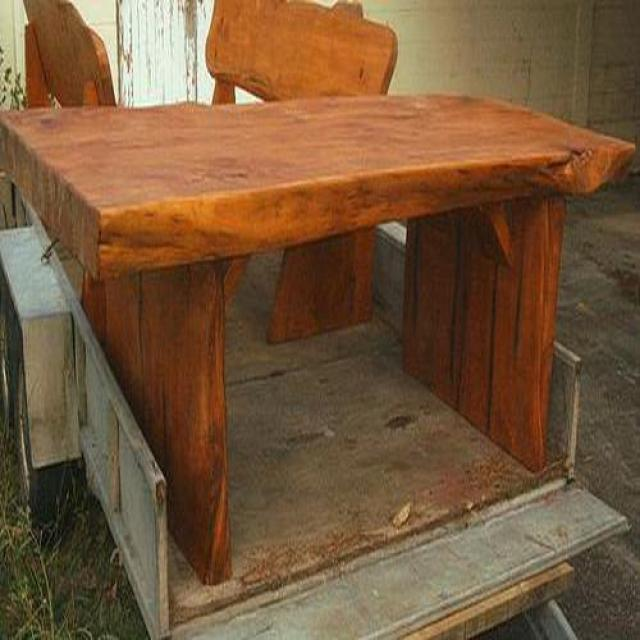table: (0, 95, 635, 588)
